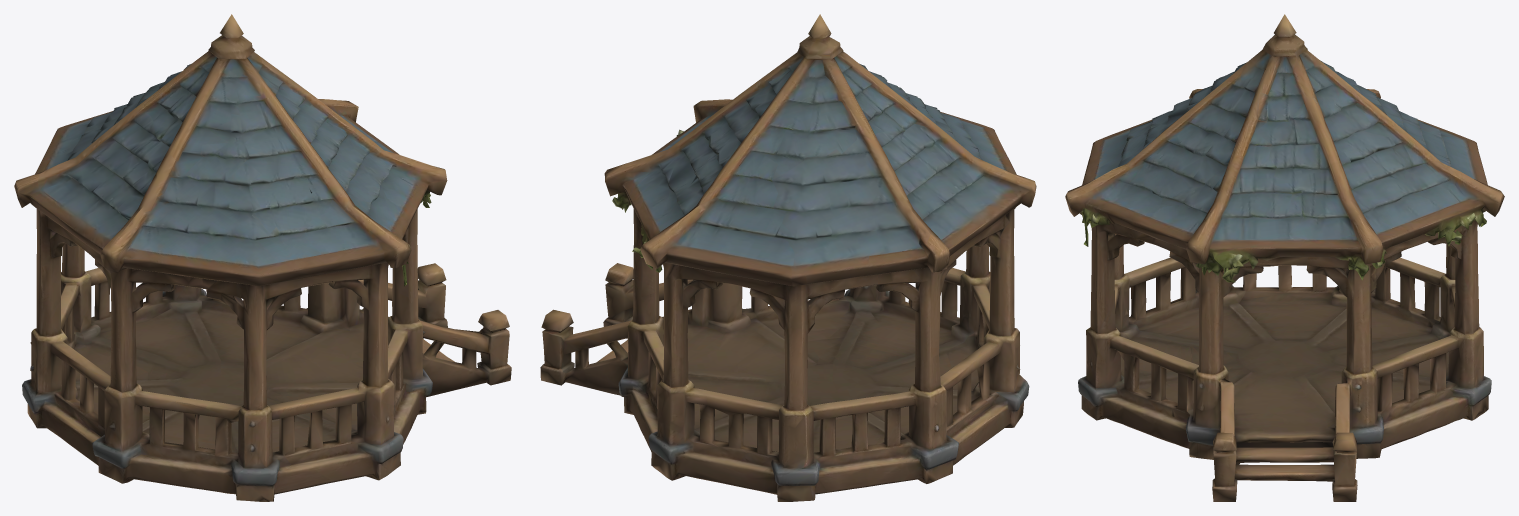
The model's file is glorieta.glb.
3 renders of one model, left to right at view 1: azimuth 30°, elevation 25°; view 2: azimuth 150°, elevation 25°; view 3: azimuth 270°, elevation 25°, orthographic. The views are drawn at different scales.
Parts seen in each view (by area): view 1: tripo_node_e892f641-4433-47cd-b30b-bc317b21b006; view 2: tripo_node_e892f641-4433-47cd-b30b-bc317b21b006; view 3: tripo_node_e892f641-4433-47cd-b30b-bc317b21b006.
Boxes of the visible parts, box(x1,y1,x2,y2) form: tripo_node_e892f641-4433-47cd-b30b-bc317b21b006: box(14, 14, 511, 501); tripo_node_e892f641-4433-47cd-b30b-bc317b21b006: box(540, 14, 1036, 501); tripo_node_e892f641-4433-47cd-b30b-bc317b21b006: box(1065, 14, 1504, 501).
Size of the model in its own units: 1 by 0.9158 by 0.9689.
Materials: 1 (1 with a texture image).
